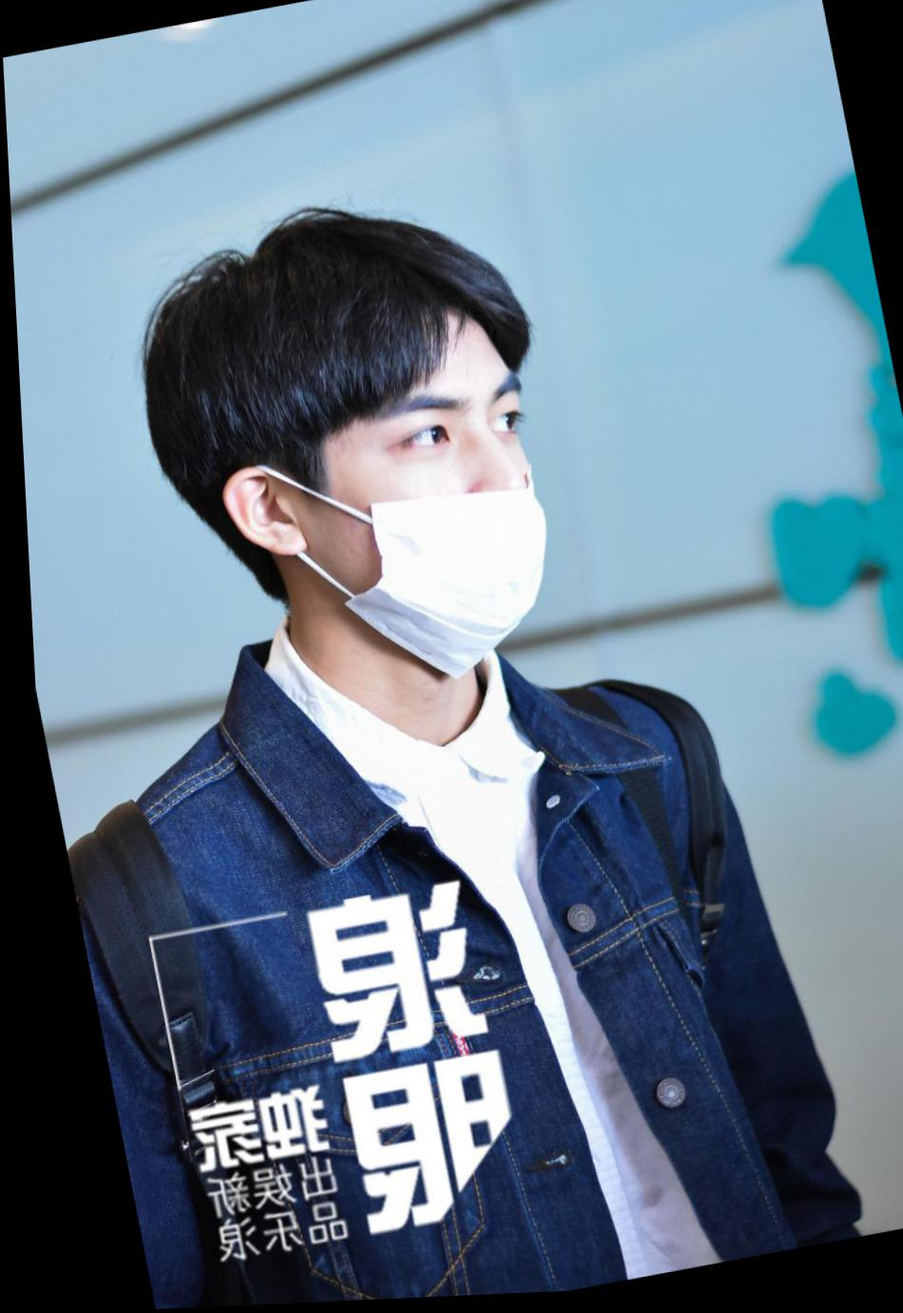WRONG: (285, 336, 567, 688)
